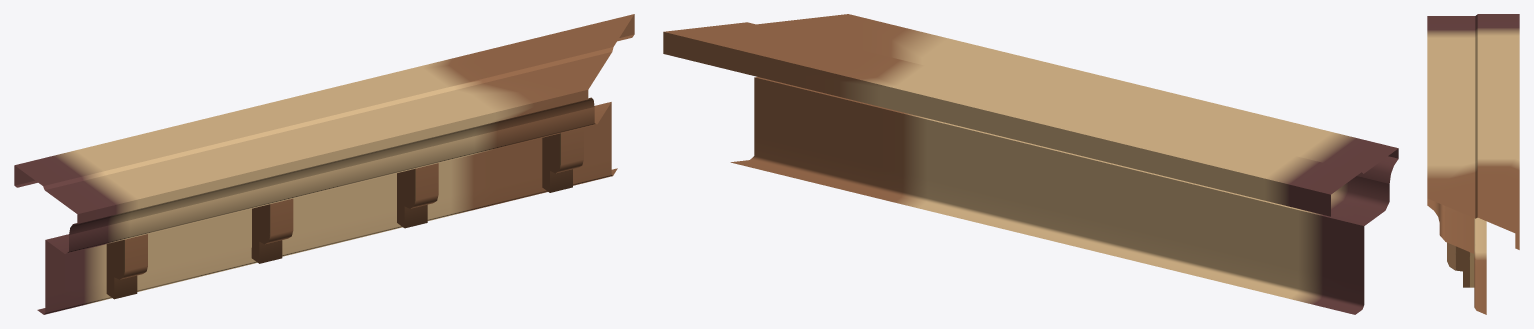
File: DBK_Cornice_B_Full_Inside_Mirror.fbx
3 renders of one model, left to right at view 1: azimuth 30°, elevation 25°; view 2: azimuth 150°, elevation 25°; view 3: azimuth 270°, elevation 25°, orthographic. The views are drawn at different scales.
Visible parts, largest first — view 1: DBK_Cornice_B_Full_Inside_Mirror; view 2: DBK_Cornice_B_Full_Inside_Mirror; view 3: DBK_Cornice_B_Full_Inside_Mirror.
Boxes of the visible parts, bbox=[...] form: DBK_Cornice_B_Full_Inside_Mirror: bbox=[14, 14, 634, 314]; DBK_Cornice_B_Full_Inside_Mirror: bbox=[663, 14, 1398, 314]; DBK_Cornice_B_Full_Inside_Mirror: bbox=[1427, 14, 1519, 314].
Size of the model in its own units: 320 by 63.25 by 56.29.
